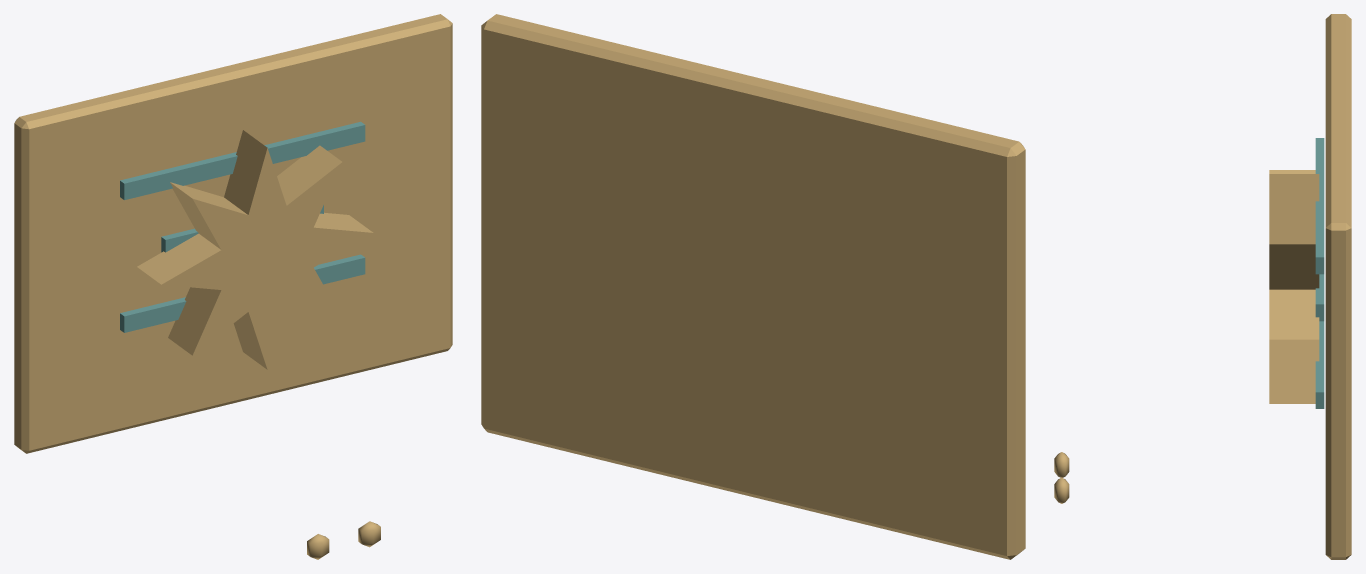
3 renders of one model, left to right at view 1: azimuth 30°, elevation 25°; view 2: azimuth 150°, elevation 25°; view 3: azimuth 270°, elevation 25°, orthographic. The views are drawn at different scales.
Visible parts, largest first — view 1: g_s46; view 2: g_s46; view 3: g_s46.
Boxes of the visible parts, box(x1,y1,x2,y2) form: g_s46: box(14, 14, 452, 559); g_s46: box(481, 14, 1025, 559); g_s46: box(1054, 14, 1351, 559).
Size of the model in its own units: 0.2924 by 0.246 by 0.1719.
